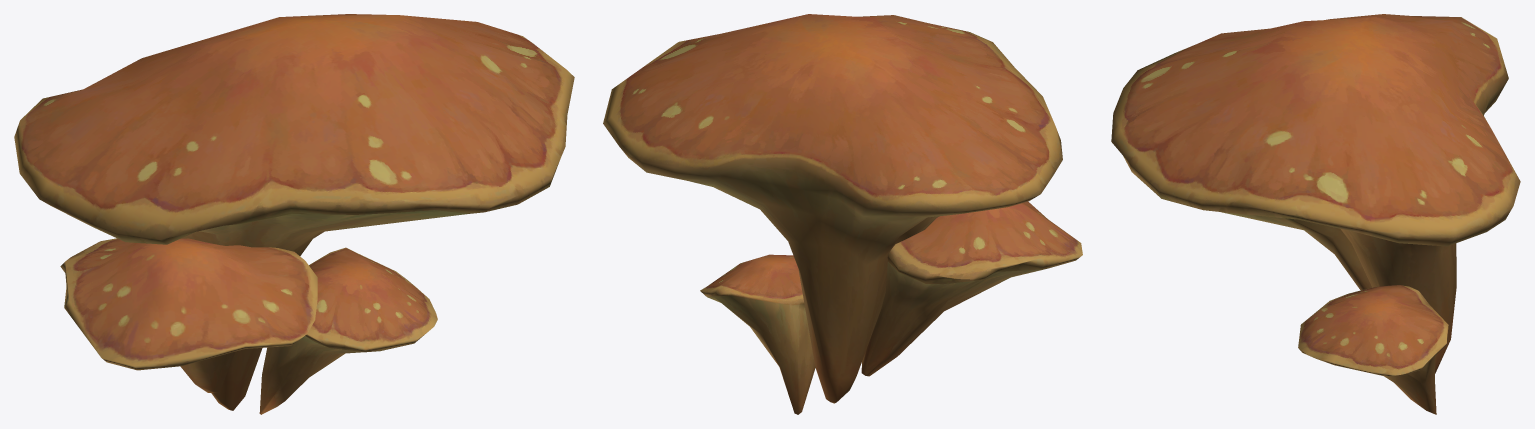
Rendered from Homeworld_Exterior_Xm_Plant_Tree_Mushroom_04_Lod0.fbx.
3 renders of one model, left to right at view 1: azimuth 30°, elevation 25°; view 2: azimuth 150°, elevation 25°; view 3: azimuth 270°, elevation 25°, orthographic. The views are drawn at different scales.
Parts seen in each view (by area): view 1: Homeworld_Exterior_Xm_Plant_Tree_Mushroom_04_Lod0; view 2: Homeworld_Exterior_Xm_Plant_Tree_Mushroom_04_Lod0; view 3: Homeworld_Exterior_Xm_Plant_Tree_Mushroom_04_Lod0.
Boxes of the visible parts, x1,y1,x2,y2 form: Homeworld_Exterior_Xm_Plant_Tree_Mushroom_04_Lod0: (14, 14, 574, 414); Homeworld_Exterior_Xm_Plant_Tree_Mushroom_04_Lod0: (603, 14, 1082, 414); Homeworld_Exterior_Xm_Plant_Tree_Mushroom_04_Lod0: (1111, 14, 1520, 414).
Size of the model in its own units: 2.72 by 2.18 by 2.13.
